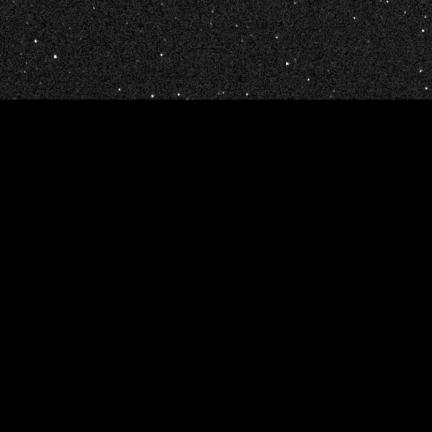blob: (246, 93, 249, 97), (178, 93, 181, 97), (54, 55, 57, 59), (286, 63, 290, 66), (152, 95, 155, 98), (420, 70, 423, 73), (161, 54, 164, 57), (308, 79, 311, 82), (422, 30, 425, 33), (276, 36, 279, 39), (35, 40, 37, 43), (119, 89, 121, 92)
